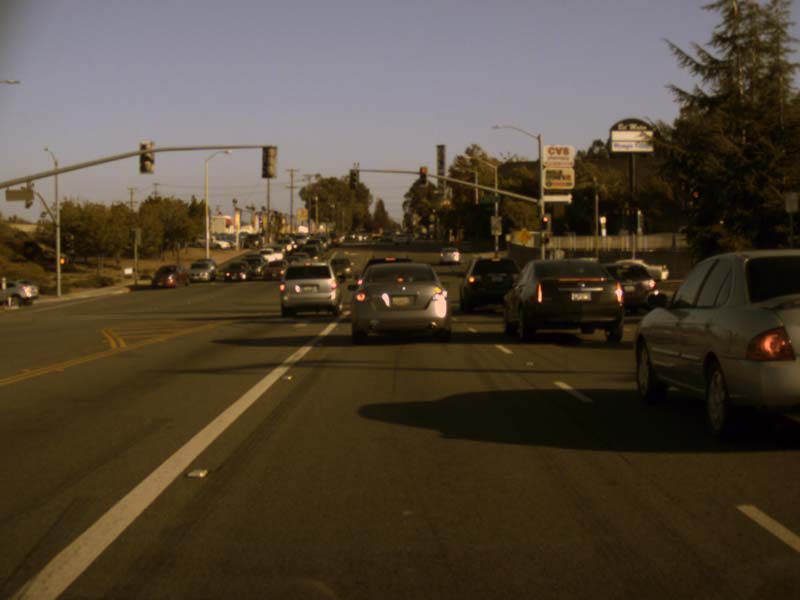Red: (541, 215, 548, 231), (420, 167, 426, 184)
